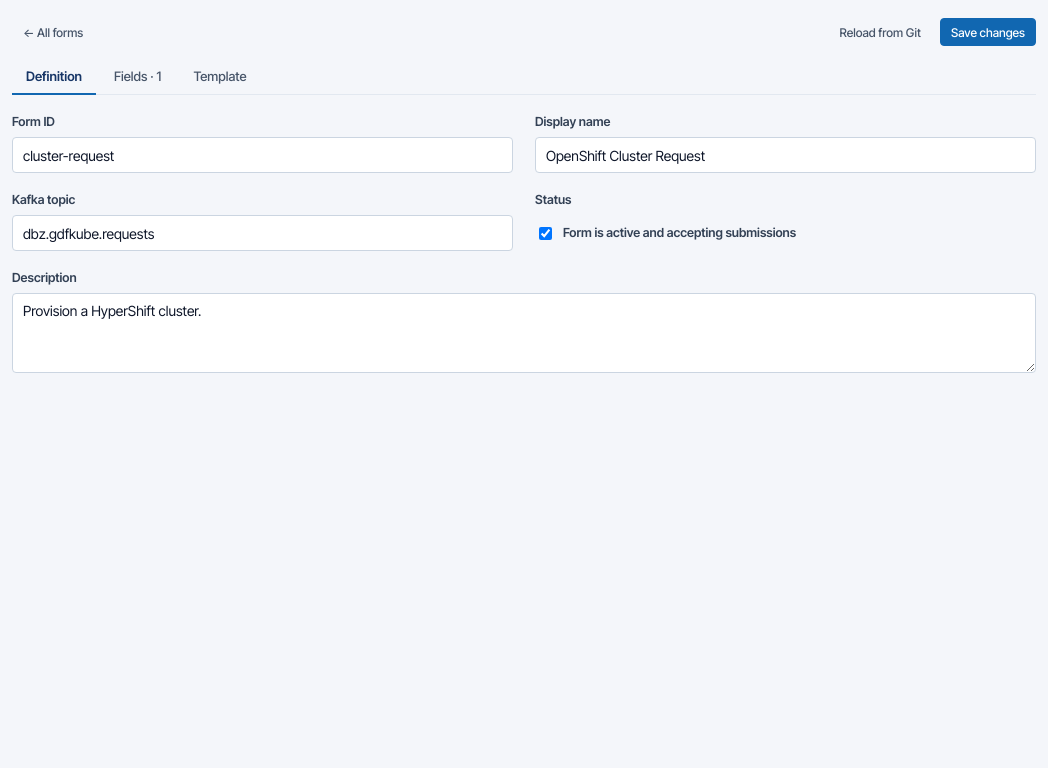
Scenario: FormEditor › switching to the Template sub-tab renders the template editor
Click the tab "Template": {"x": 220, "y": 78} [179,60,261,95]
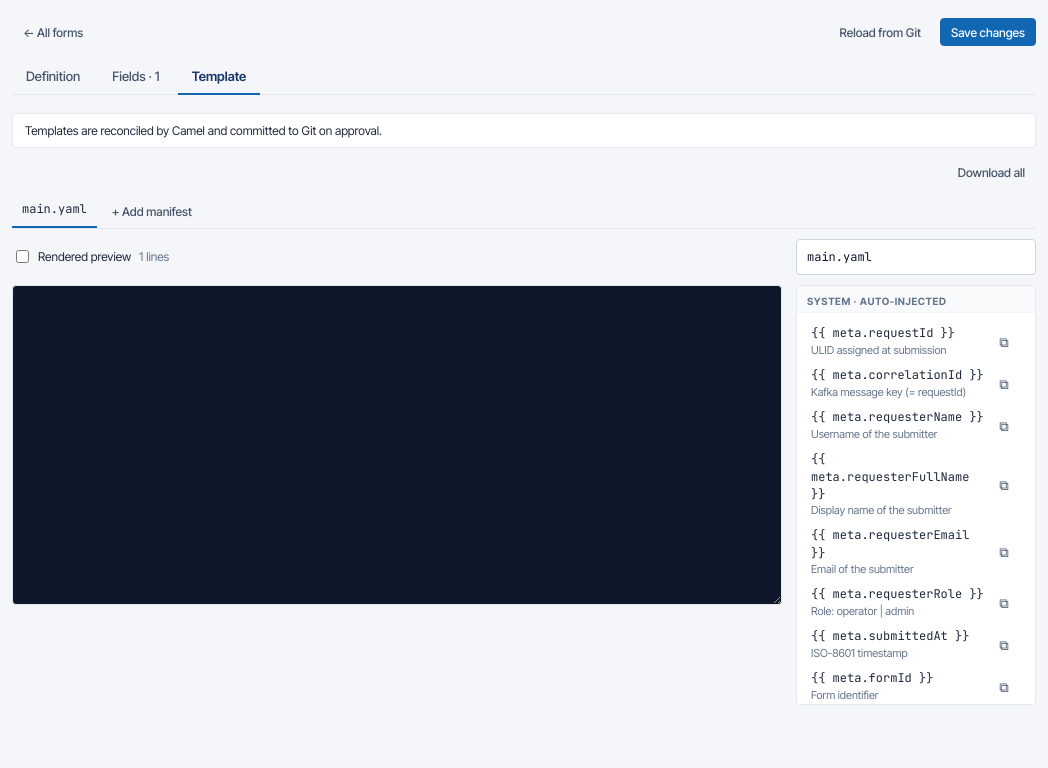
Now the text box with test id "template-textarea" is shown, box [12,285,782,605]
